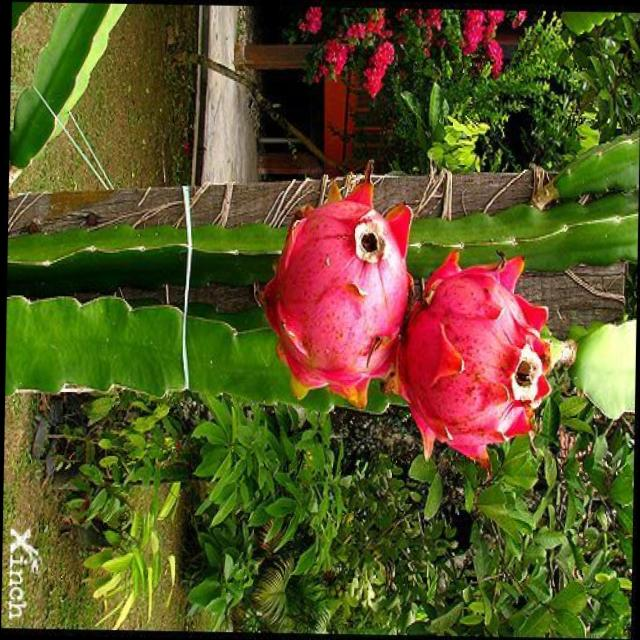Thanh Long: (261, 172, 416, 406), (392, 273, 545, 459)
